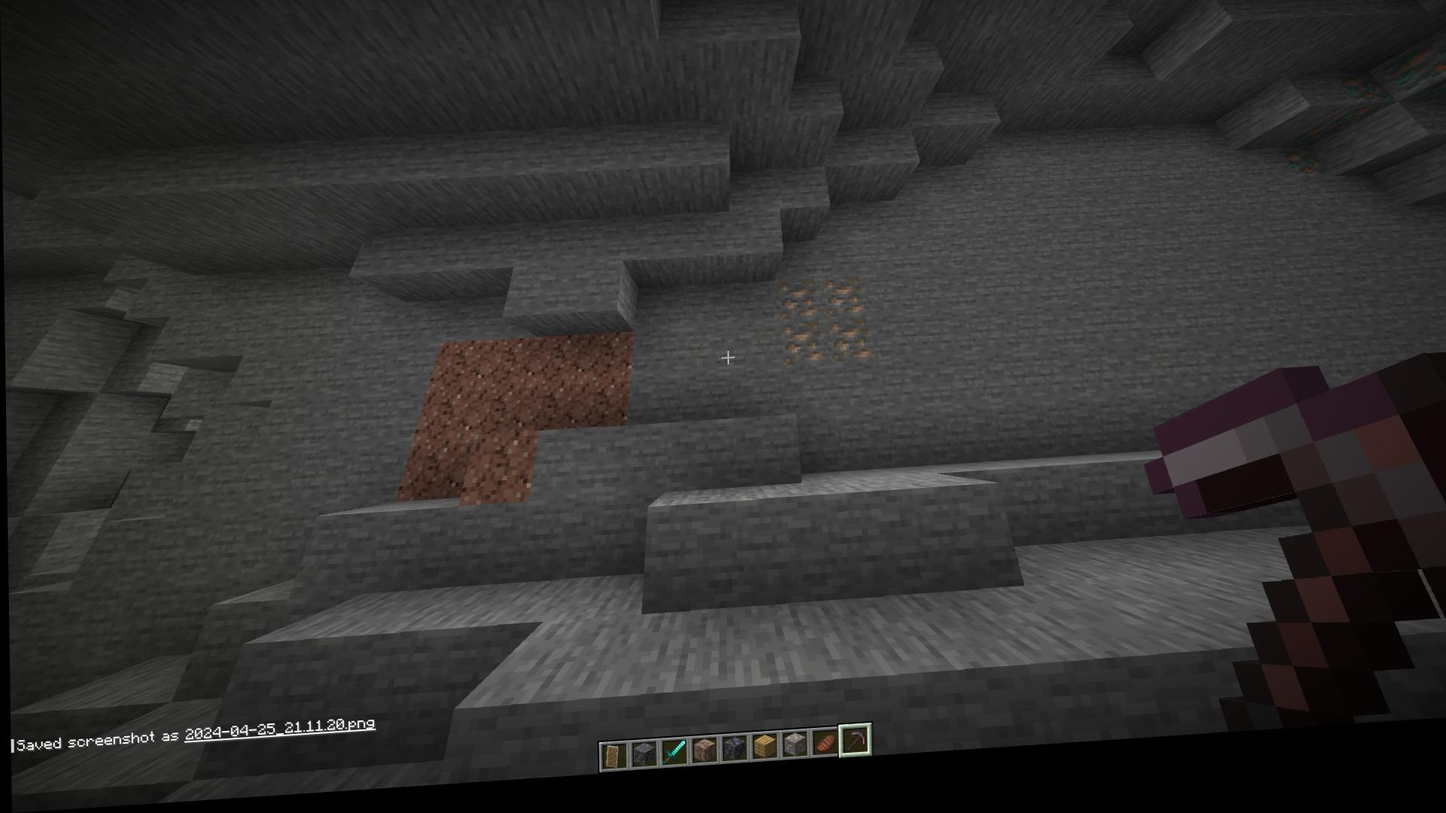iron ore: (776, 287, 871, 382)
